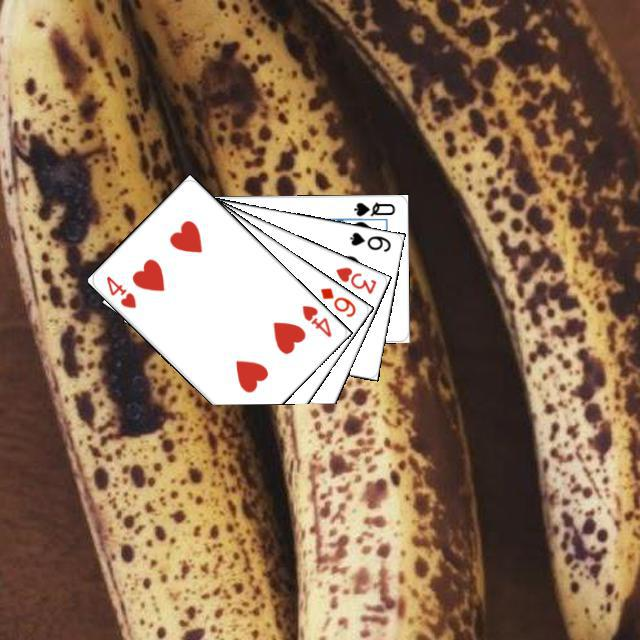3h: (331, 262, 378, 296)
4h: (101, 271, 138, 310), (297, 300, 333, 339)
6d: (315, 282, 358, 319)
6s: (345, 227, 392, 253)
Qs: (349, 197, 396, 218)
